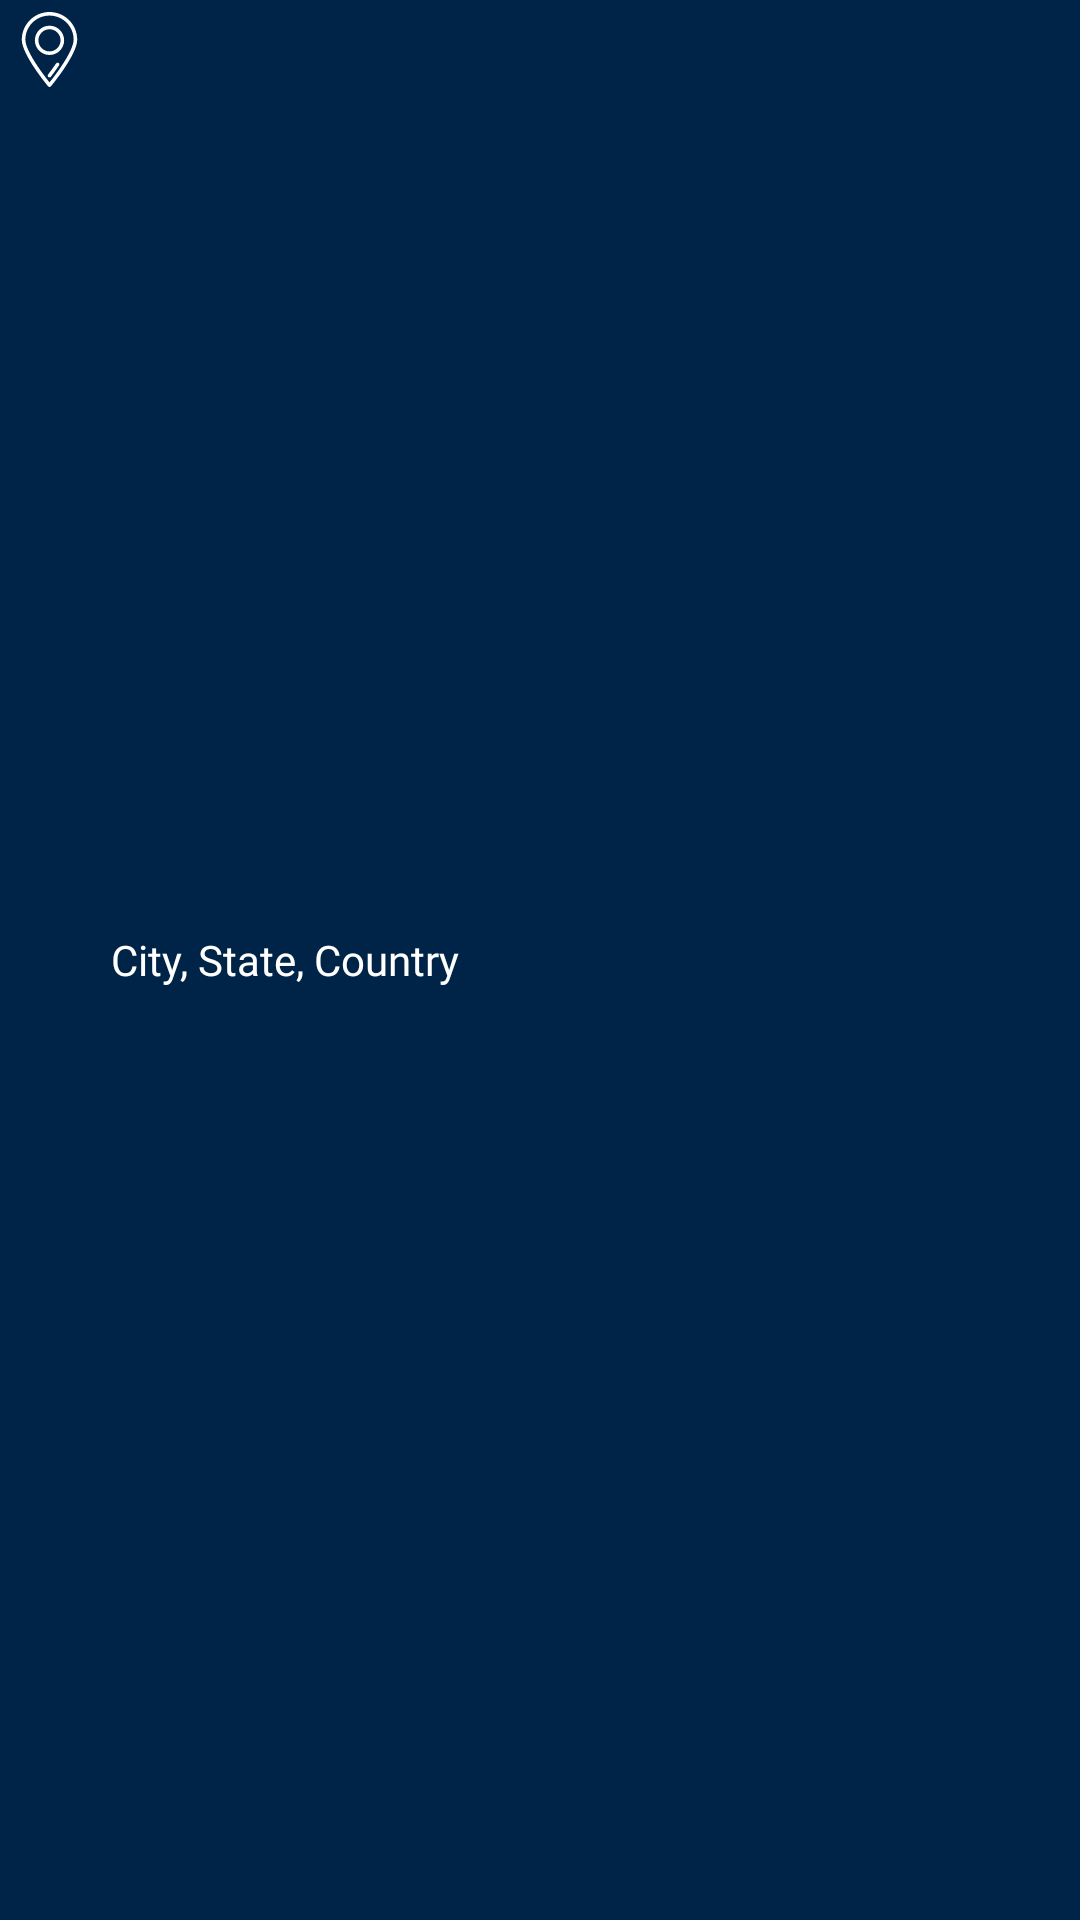

Screen size 1080 x 1920. Icon name, then its center in pixels as point (x, y):
Location: point (49, 49)
